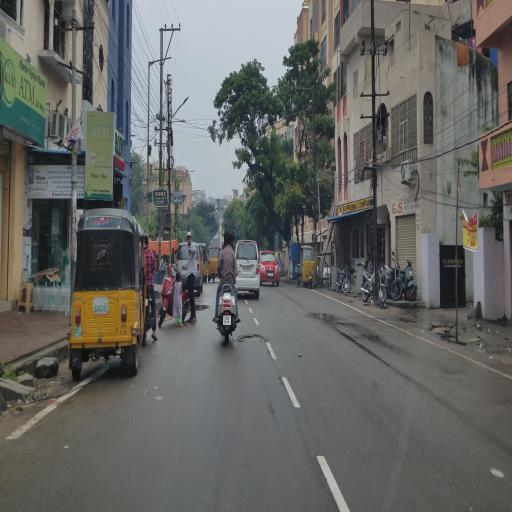street_light_0: (170, 94, 194, 120), (148, 48, 174, 68)
